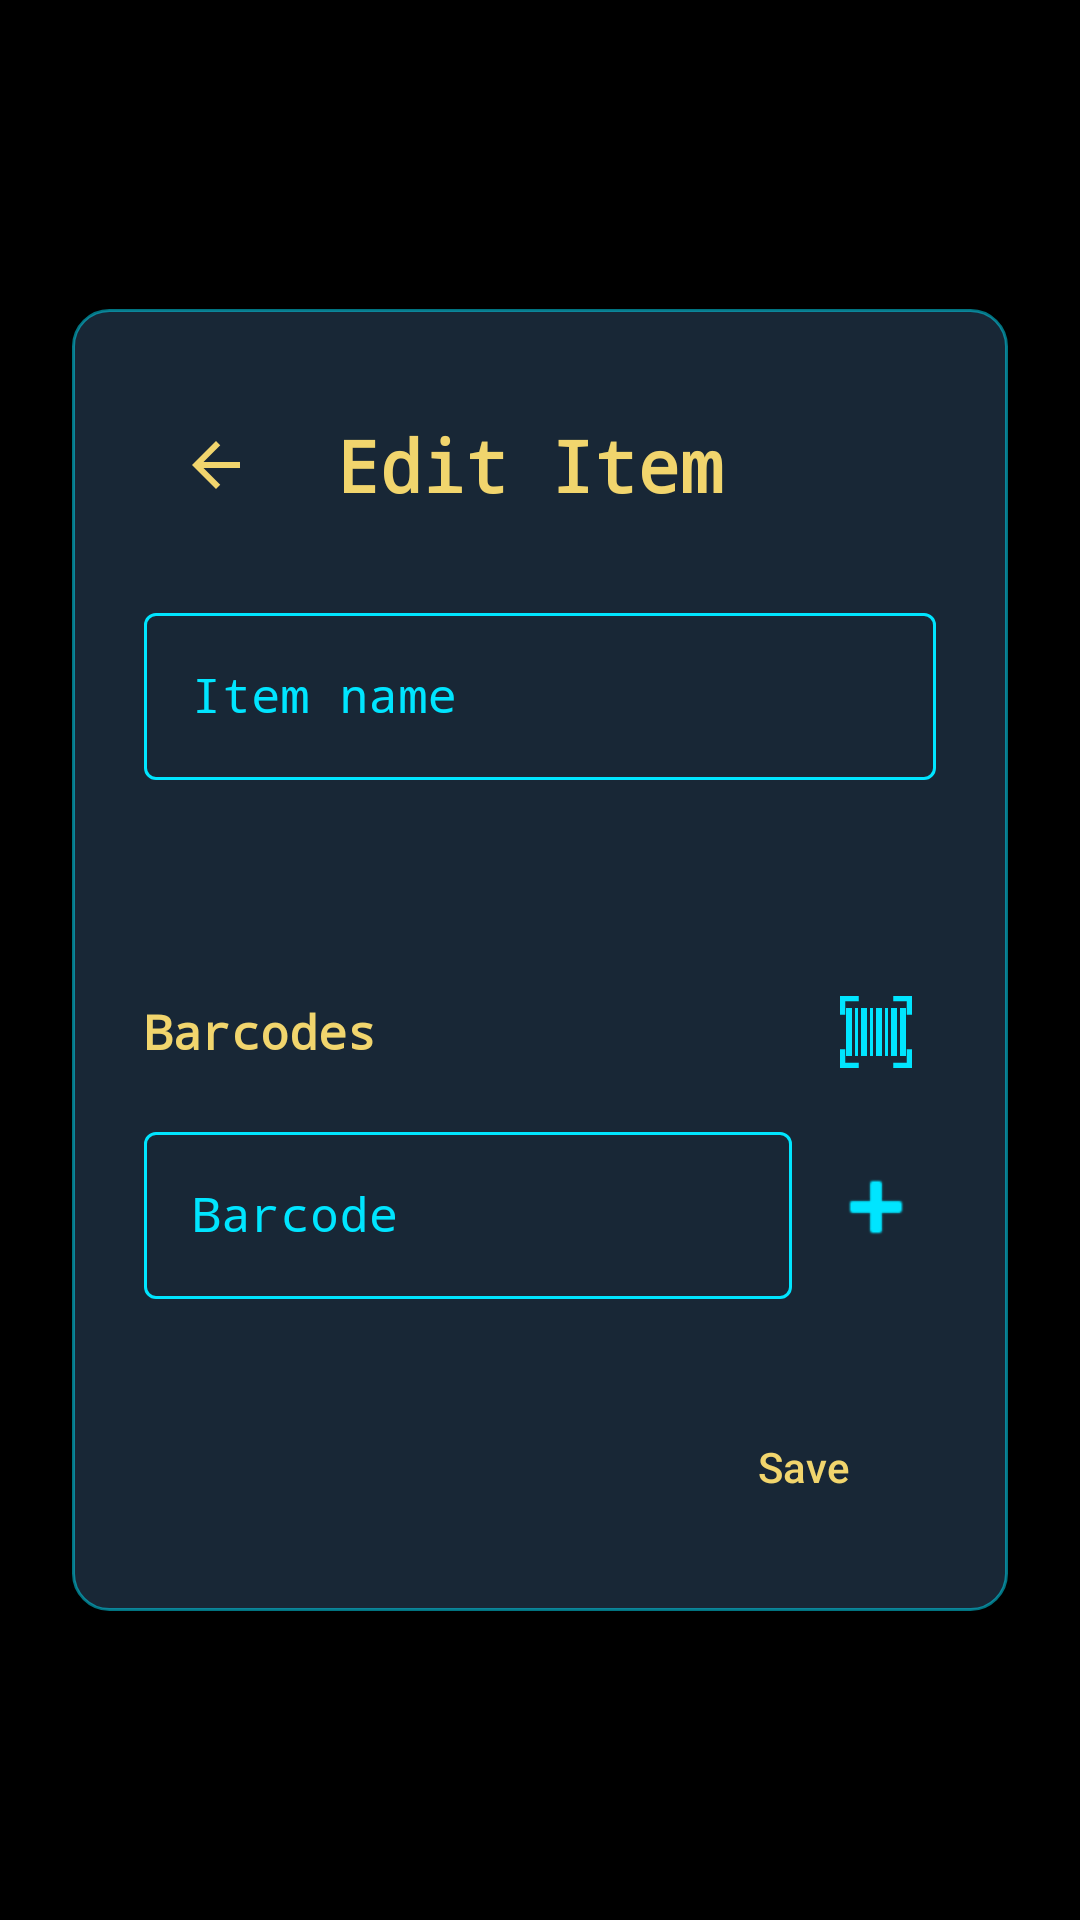

Where icons sit on this 1080px×1920px app screen, as bbox=(x1, y1, x2, y2):
Add: bbox=(849, 1180, 903, 1234)
Back: bbox=(192, 441, 240, 489)
